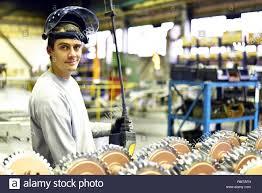Person_wearing_helmet: (42, 12, 95, 54)
